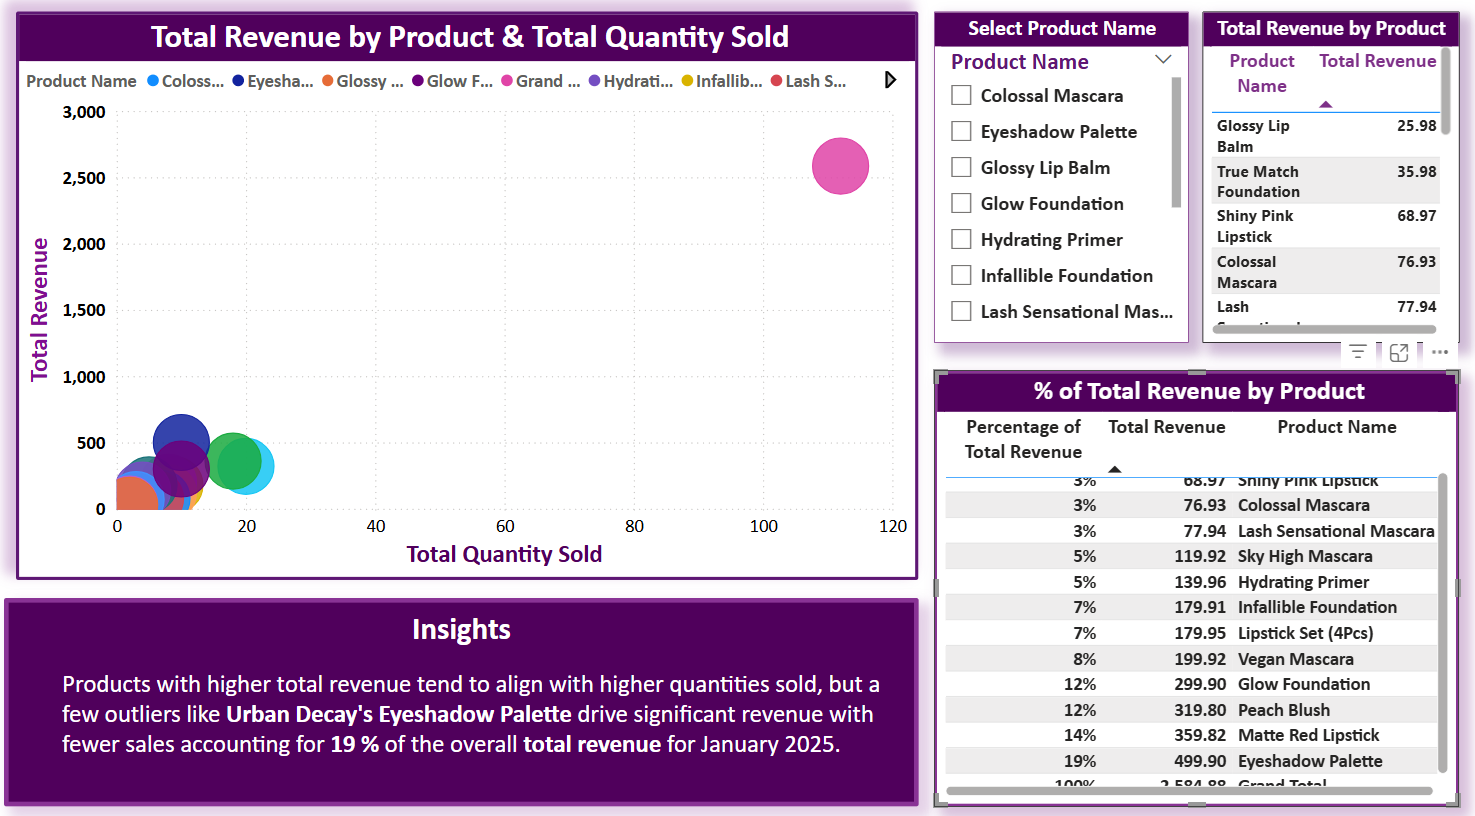

Layout of this report page (visuals, bound fields, positions):
{"tool":"powerbi","page":{"name":"Product Insights","canvas":[1280,720],"ordinal":13},"visuals":[{"type":"scatterChart","title":"Total Revenue by Product  & Total Quantity Sold ","fields":{"X":["Product Insights (2).Total Quantity Sold"],"Y":["Product Insights (2).Total Revenue"],"Series":["Product Insights (2).Product Name"],"Size":["CountNonNull(Product Insights (2).Total Revenue)"]},"box":[10.5,0,787.2,527.3],"z":0},{"type":"slicer","fields":{"Values":["Product Insights (2).Product Name"]},"box":[811.7,10.6,219.2,297.6],"z":1000},{"type":"tableEx","fields":{"Values":["Product Insights (2).Product Name","Product Insights (2).Total Revenue"]},"box":[1042.8,10.6,220.5,297.6],"z":2000},{"type":"textbox","box":[10,527,787,164],"z":3000},{"type":"tableEx","fields":{"Values":["Product Insights (2).Percentage of Total Revenue","Product Insights (2).Total Revenue","Product Insights (2).Product Name"]},"box":[811.7,330.8,451.7,361.3],"z":4000}]}

Visuals, with their boxes in screenshot pixels (x1, y1, x2, y2), scaled from the page's 1280x720 canvas onto the 1475x816 screenshot:
"Total Revenue by Product  & Total Quantity Sold " scatterChart: <region>12, 0, 919, 598</region>
slicer - Product Insights (2).Product Name: <region>935, 12, 1188, 349</region>
tableEx - Product Insights (2).Product Name x Product Insights (2).Total Revenue: <region>1202, 12, 1456, 349</region>
textbox: <region>12, 597, 918, 783</region>
tableEx - Product Insights (2).Percentage of Total Revenue x Product Insights (2).Total Revenue: <region>935, 375, 1456, 784</region>
